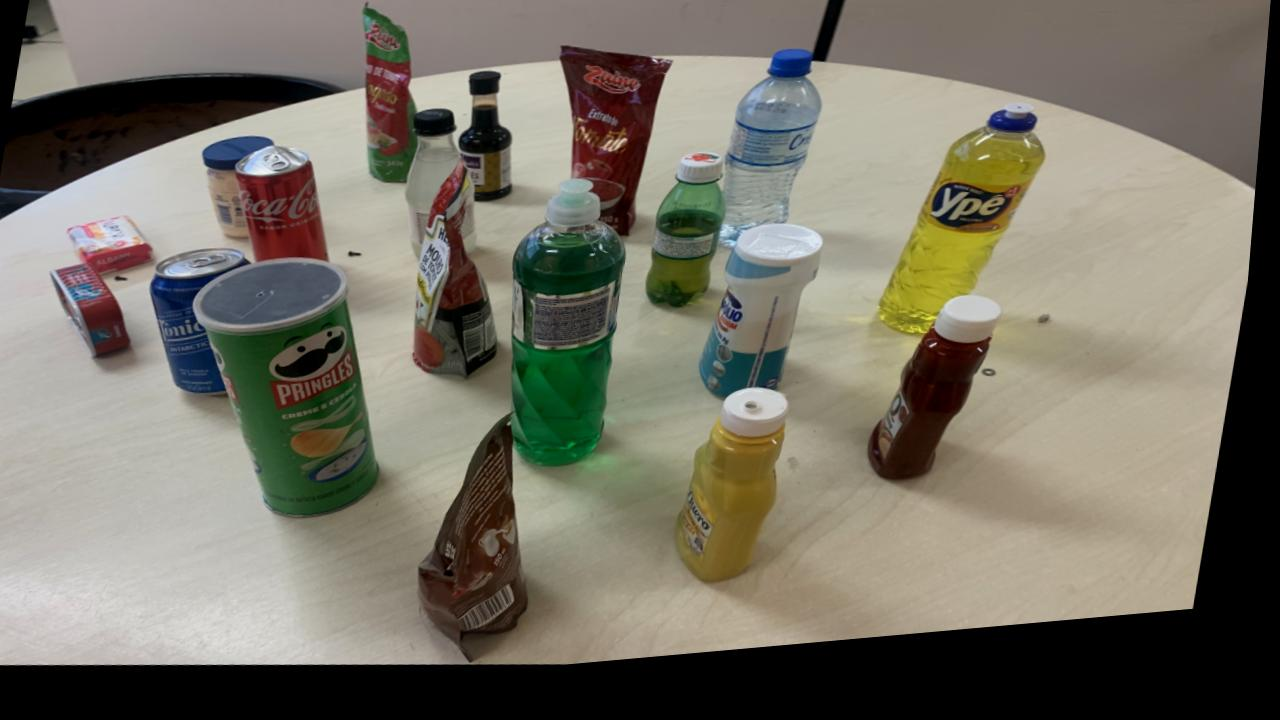Cleaner-Cleanup_Items: (706, 239, 827, 411)
Coffee-Pantry_Items: (427, 426, 539, 654)
Coke-Drinks: (238, 151, 334, 267)
Detergent-Cleanup_Items: (885, 123, 1048, 351), (517, 188, 631, 476)
English_Sauce-Pantry_Items: (460, 79, 516, 211)
Guarana-Drinks: (651, 166, 730, 320)
Ketchup-Pantry_Items: (876, 314, 1007, 498)
Mayonnaise-Pantry_Items: (205, 141, 275, 243)
Mustard-Pantry_Items: (685, 402, 797, 596)
Pringles-Snacks: (198, 264, 387, 523)
Soap-Cleanup_Items: (70, 218, 157, 276)
Soda-Drinks: (408, 118, 464, 265), (466, 203, 481, 260)
Tomato_Sauce-Pantry_Items: (562, 58, 673, 248), (418, 175, 504, 386), (362, 13, 420, 191)
Tonic-Drinks: (153, 252, 254, 399)
Tuna_Can-Pantry_Items: (54, 266, 136, 359)
Water_Bottle-Drinks: (725, 64, 825, 261)
